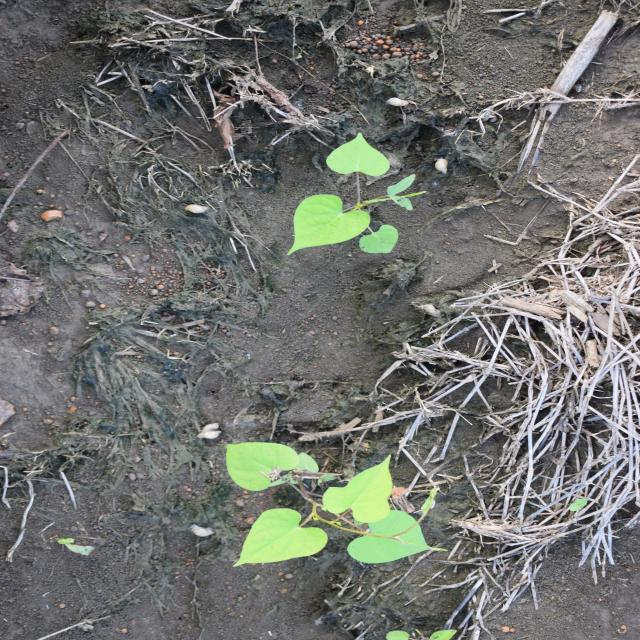MorningGlory: (225, 441, 454, 569), (282, 129, 428, 257)
